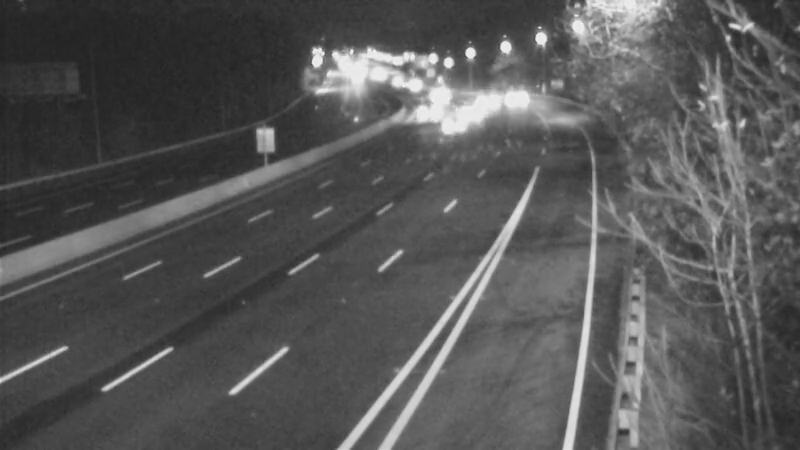vehicle: (372, 55, 422, 105), (390, 61, 440, 111), (414, 68, 464, 118), (486, 72, 536, 122), (462, 80, 512, 130), (444, 88, 494, 138), (403, 88, 453, 138), (430, 100, 480, 150)
